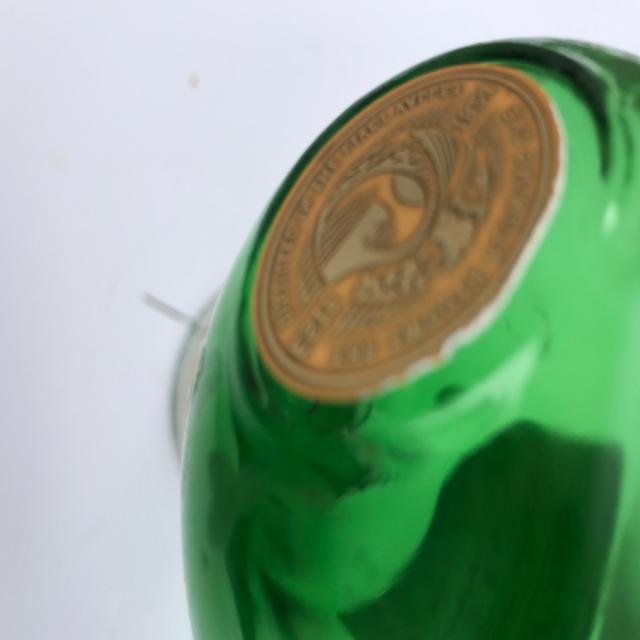glass: (167, 36, 640, 640)
